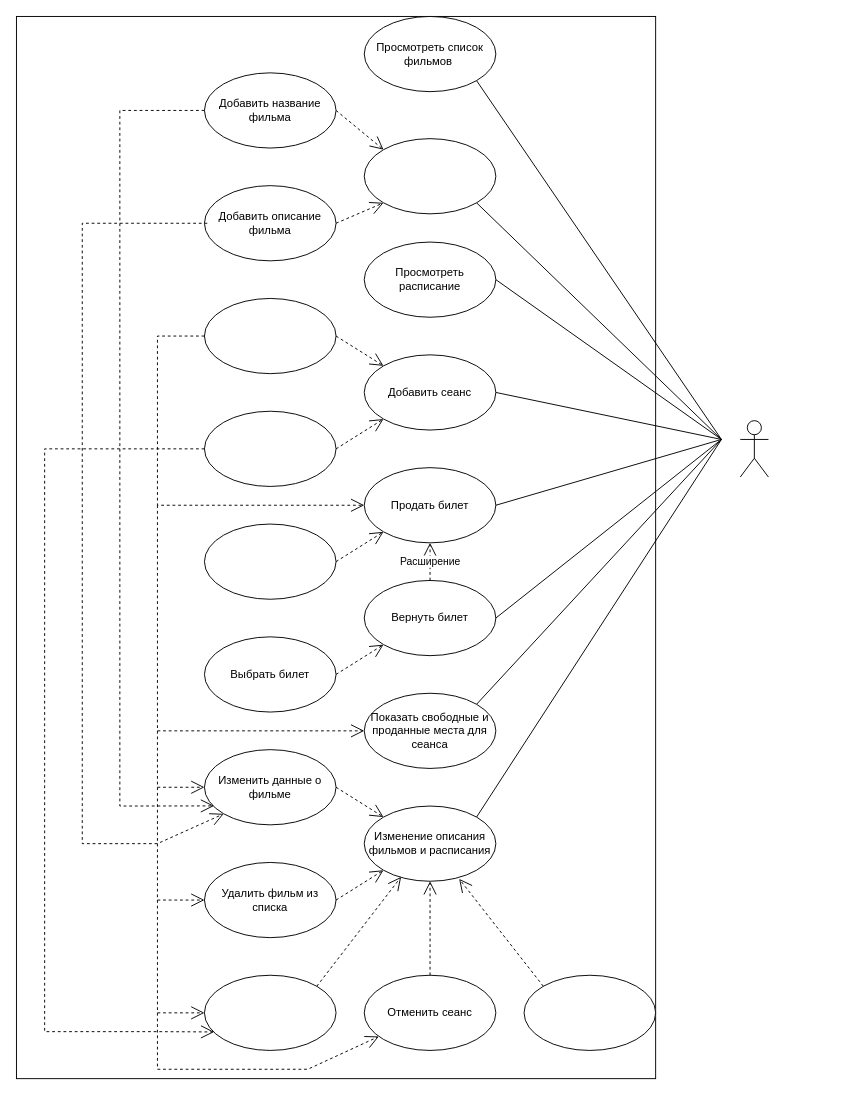
Some shapes in this 849 by 1103 pixel diagram are drawn without their labels. Here are the shapes that lost their labels. From the top down, the centre of each, then its label:
At pixel 429 176: "Добавить фильм".
At pixel 270 336: "Выбрать фильм".
At pixel 270 448: "Выбрать время".
At pixel 753 448: "Работник кинотеатра".
At pixel 270 561: "Выбрать место".
At pixel 270 1012: "Изменить время сеанса".
At pixel 589 1012: "Вернуться в главное меню".
